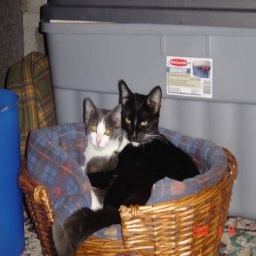cat: (60, 82, 195, 246)
